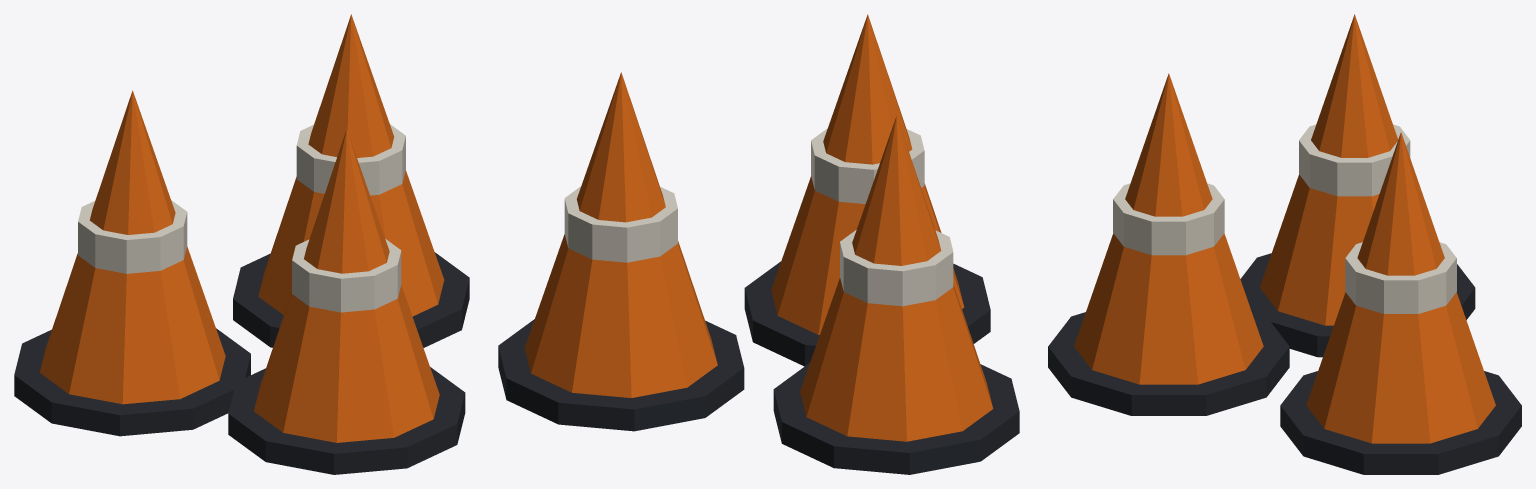
The model's file is decor_2.fbx.
3 views of the same model, side by side, from view 1: azimuth 30°, elevation 25°; view 2: azimuth 150°, elevation 25°; view 3: azimuth 270°, elevation 25° (orthographic). The views are drawn at different scales.
Visible parts, largest first — view 1: decor_2; view 2: decor_2; view 3: decor_2.
Boxes of the visible parts, left/top/right/bottom form: decor_2: left=14, top=14, right=469, bottom=474; decor_2: left=498, top=14, right=1019, bottom=474; decor_2: left=1048, top=14, right=1521, bottom=474.
Bounding box in the file's own units: 1.09 × 0.7 × 1.02.
